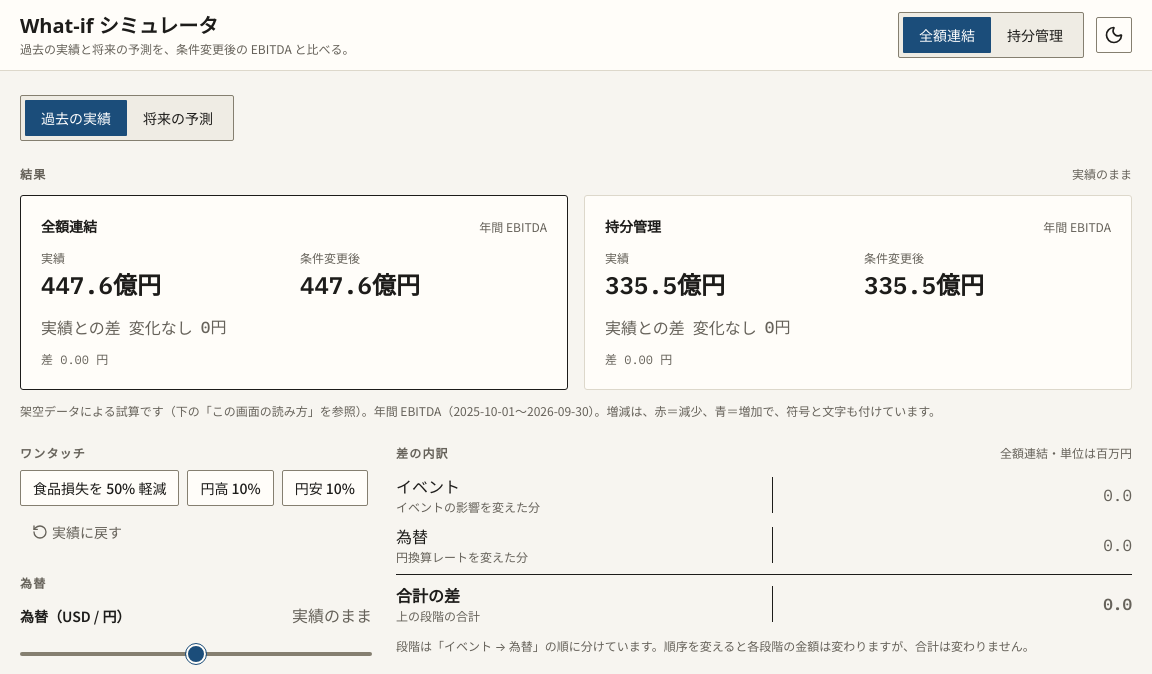
Test case: Simulator の操作 › 計算が失敗したら、直近の結果を残したまま、エラーを出す
Click the button "円高 10%" at (231, 488), box [187,470,274,506]
Wait 250 ms
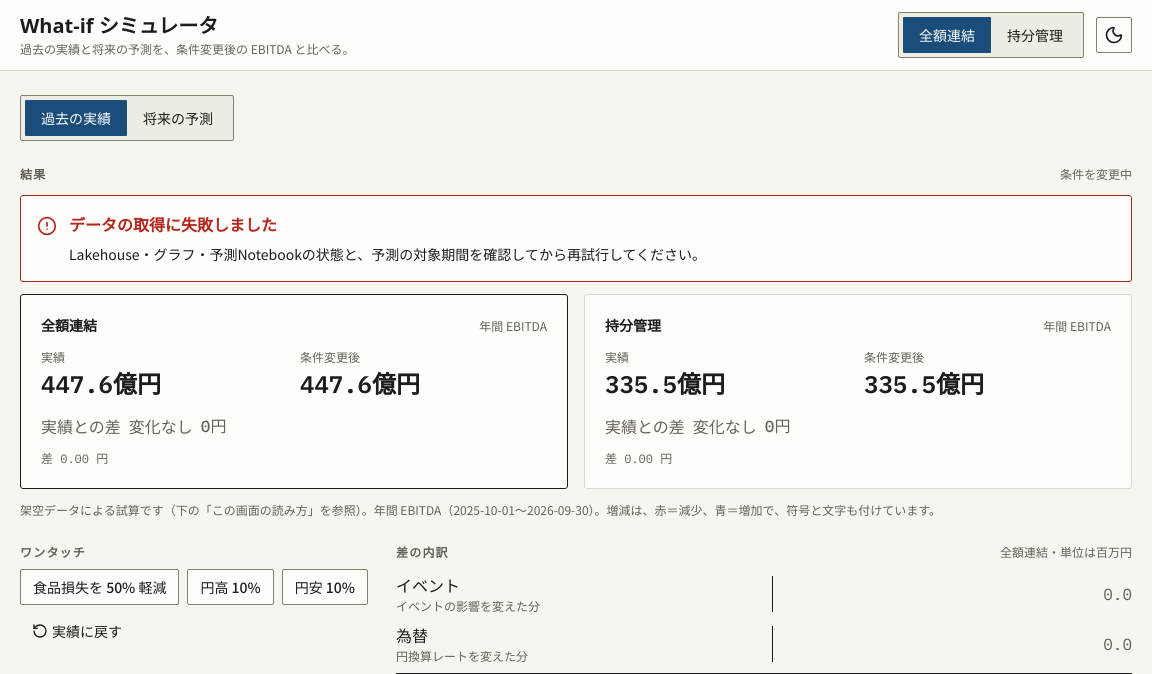
Expected: the element "全額連結" is shown, [20,294,568,489]
Expected: the message shows "データの取得に失敗しました", [69,212,277,236]
